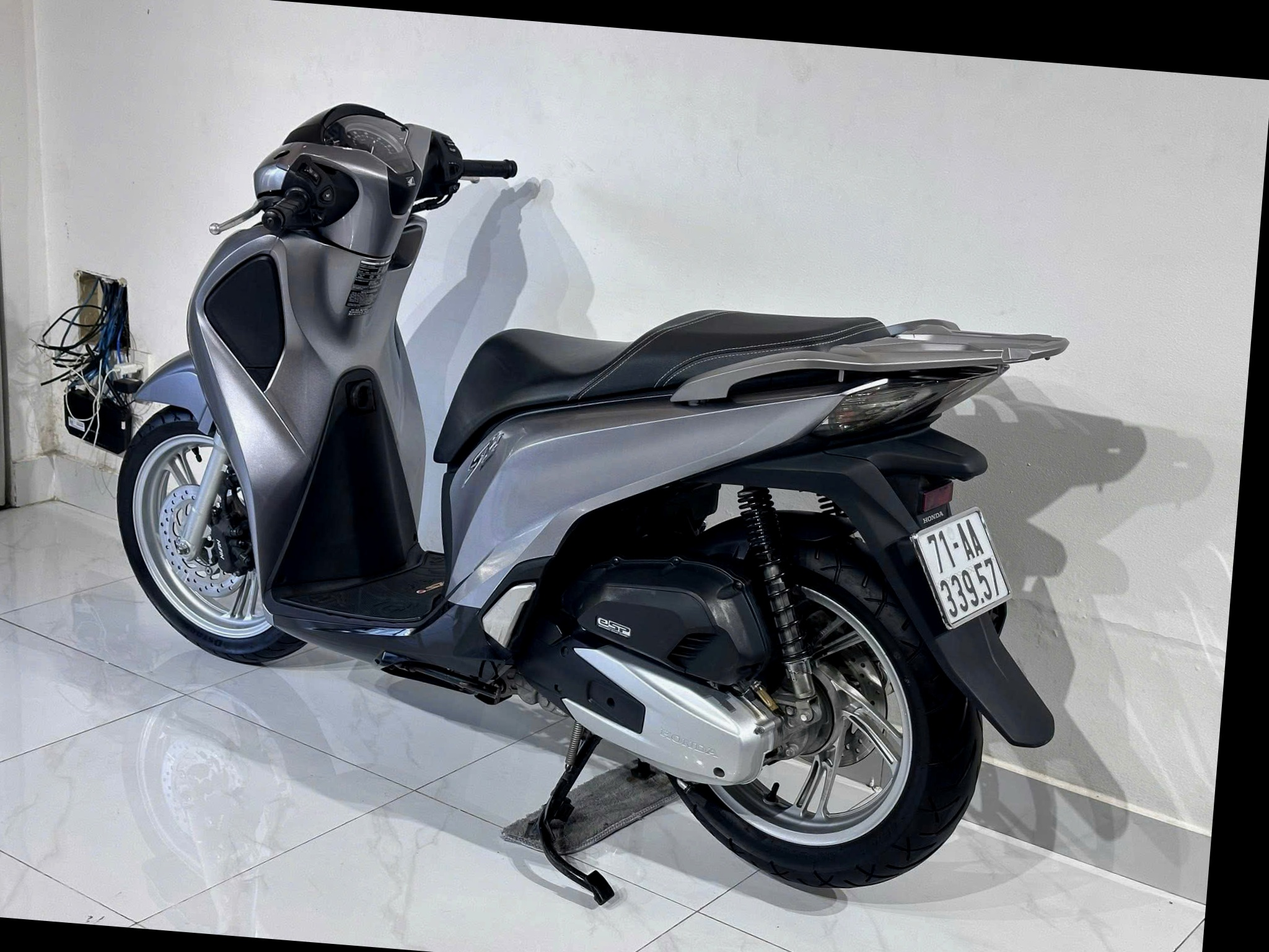Bien-so: (948, 446, 1063, 573)
